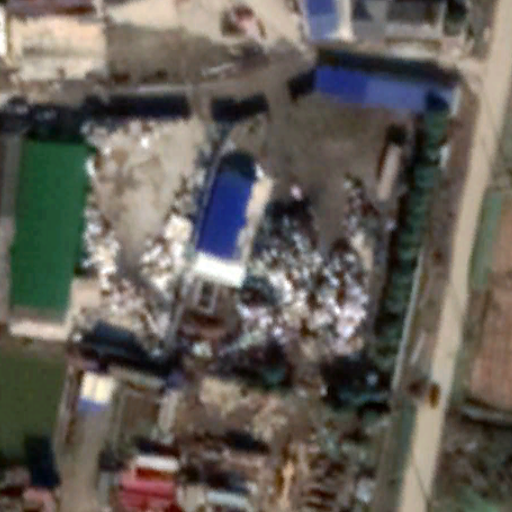msw: (237, 192, 377, 356), (79, 194, 196, 338)
